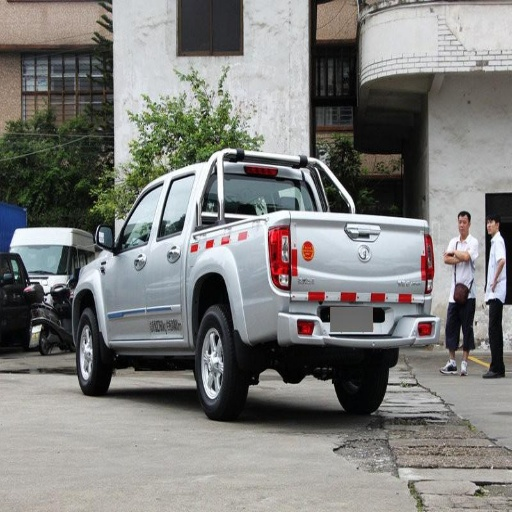back_bumper: (307, 317, 415, 346)
back_glass: (274, 180, 353, 211)
back_left_door: (147, 174, 194, 338)
trunk: (189, 213, 427, 345)
